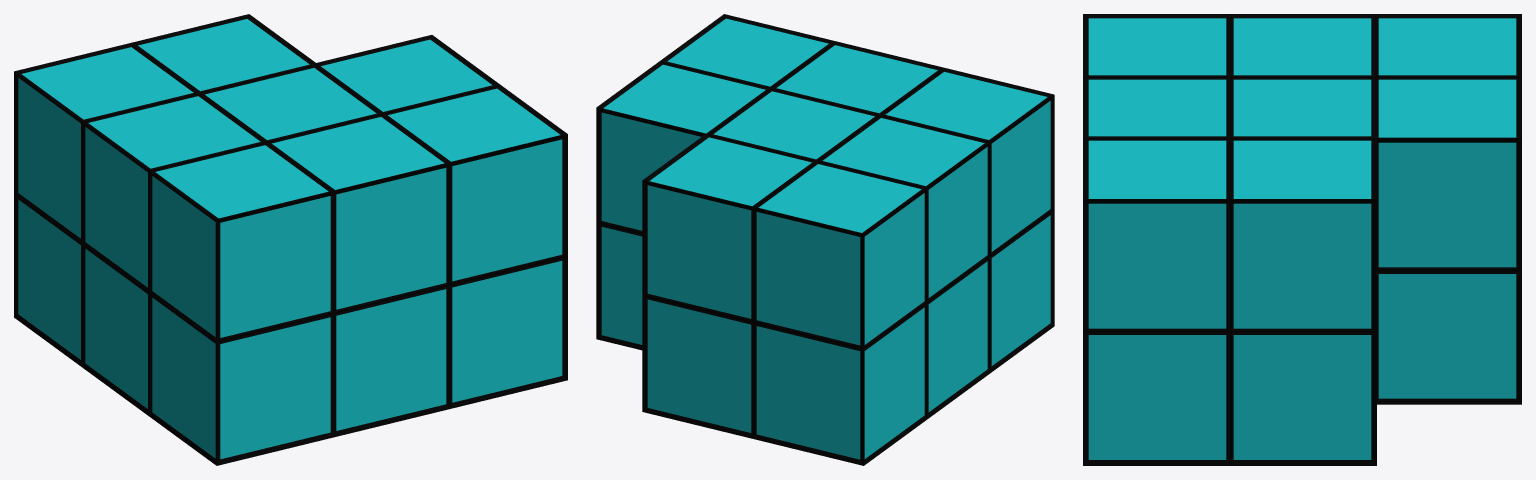
3 renders of one model, left to right at view 1: azimuth 30°, elevation 25°; view 2: azimuth 150°, elevation 25°; view 3: azimuth 270°, elevation 25°, orthographic. The views are drawn at different scales.
Parts seen in each view (by area): view 1: b:Mesh; view 2: b:Mesh; view 3: b:Mesh.
Part boxes in pixels (<box>): b:Mesh: <box>14,14,567,465</box>; b:Mesh: <box>596,14,1054,465</box>; b:Mesh: <box>1083,14,1521,465</box>.
Bounding box in the file's own units: 6.06 × 4.06 × 6.06.
